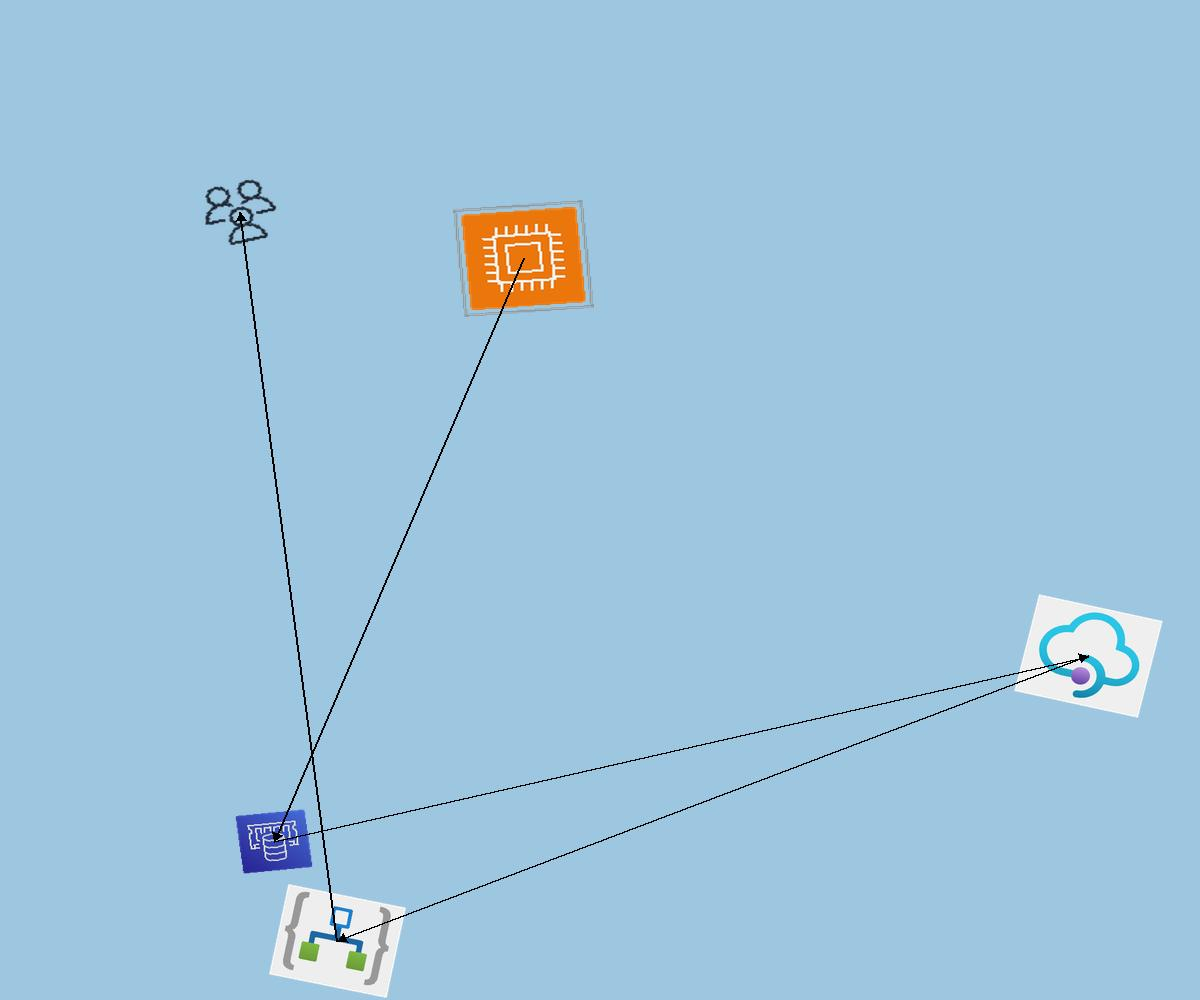AWS-Category_Compute: (453, 200, 594, 317)
AWS-ElastiCache: (235, 809, 313, 874)
AWS-Res_Users: (191, 172, 289, 253)
Azure_api_gateway: (1014, 594, 1163, 718)
Azure_integration-204-Logic-Apps: (269, 884, 406, 998)
